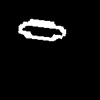chain: (19, 19, 65, 40)
